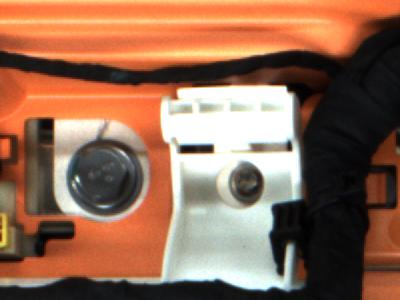nut_b: (61, 136, 152, 223)
